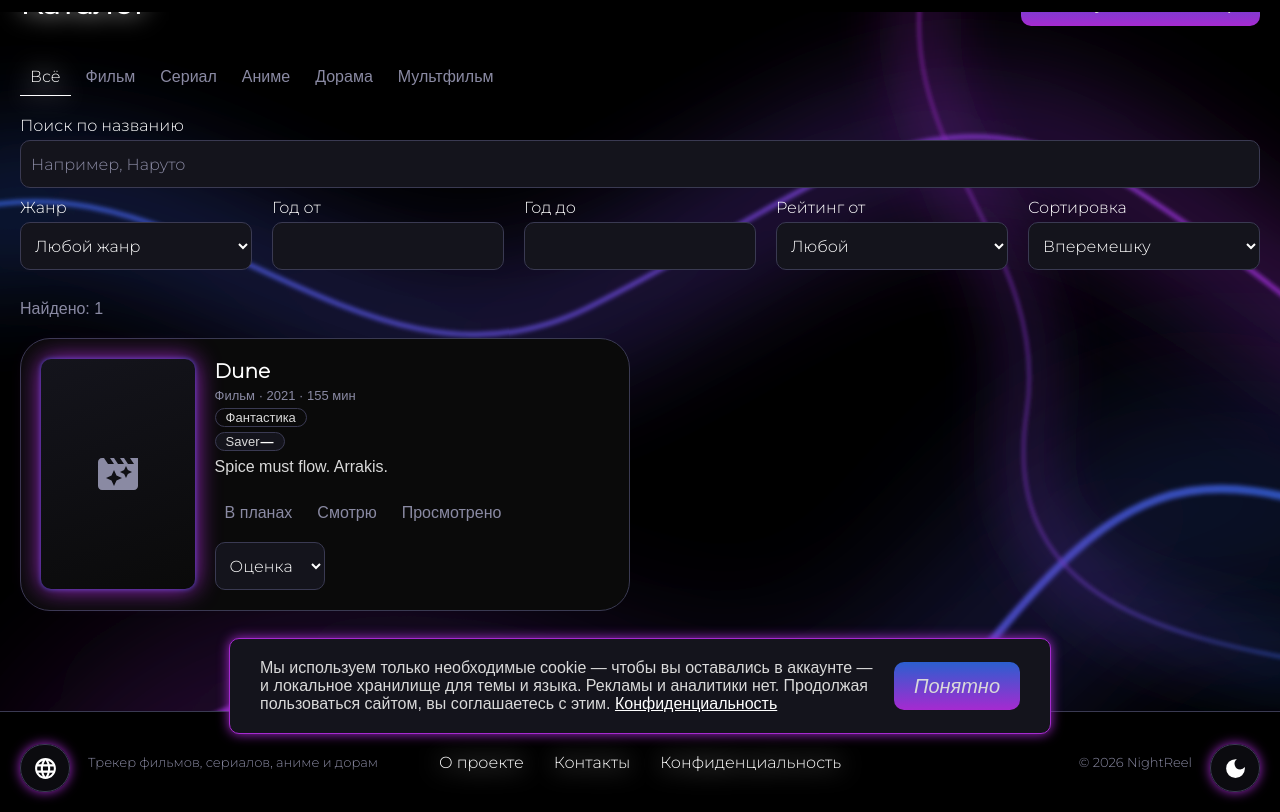
Test: Discover page › sends guests who pick a status to the login page
(page scrolled)
Click the button "В планах".
click(258, 513)  # box [215,494,302,532]
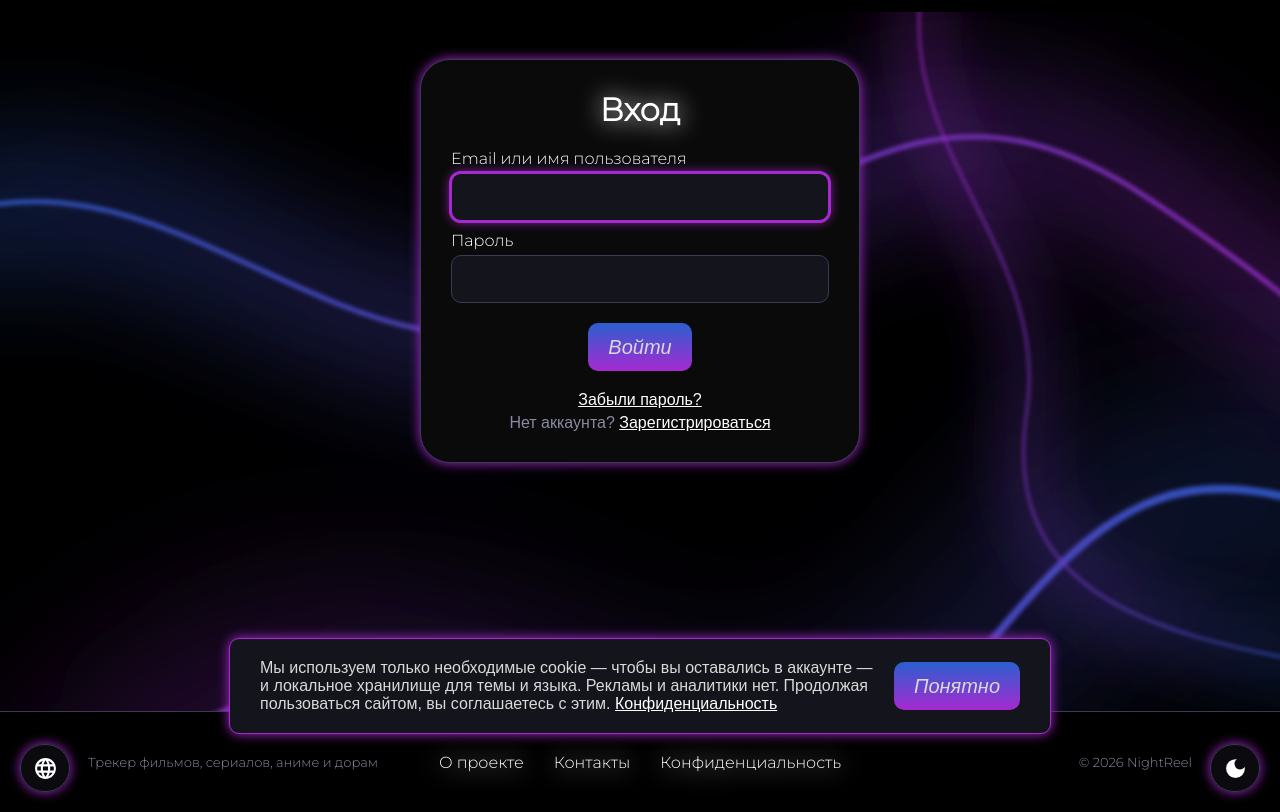
Expected: the heading "Вход" is shown, [600,90,680,129]
